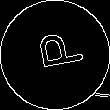P_W: (26, 32, 84, 78)
